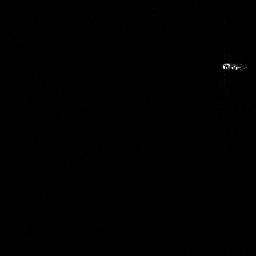ship: (221, 60, 247, 71)
